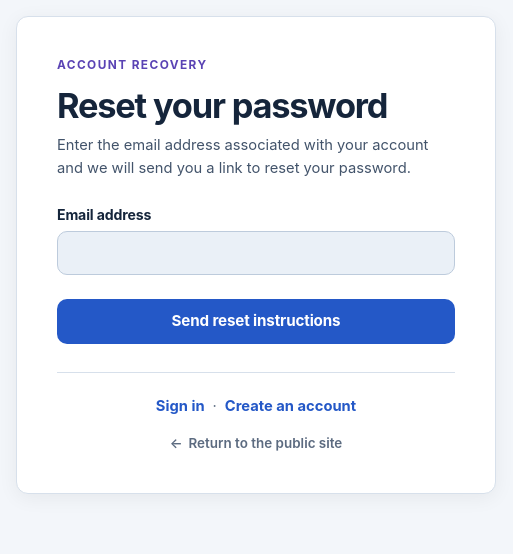
Test: Authentication pages › submits password recovery request and shows success state
This screenshot has width=513, height=554.
Expected: the heading "Reset your password" is shown, [57, 85, 387, 126]
Type "user@example.com" into the field labelled "Email address" at (256, 253), box [57, 231, 455, 275]
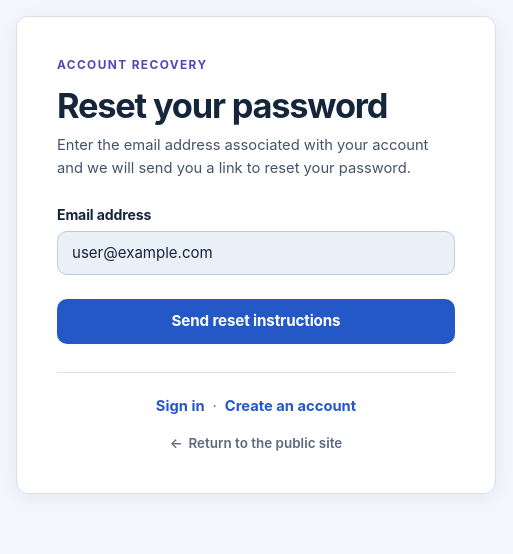
Click the button "Send reset instructions" at (256, 322), box [57, 299, 455, 344]
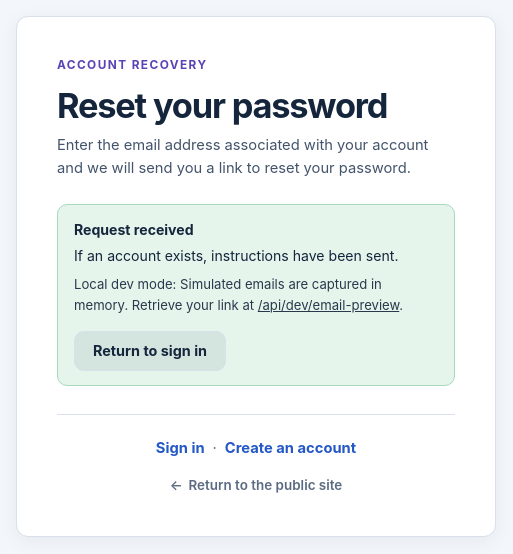
Expected: the text "Request received" is shown, [74, 221, 194, 238]
